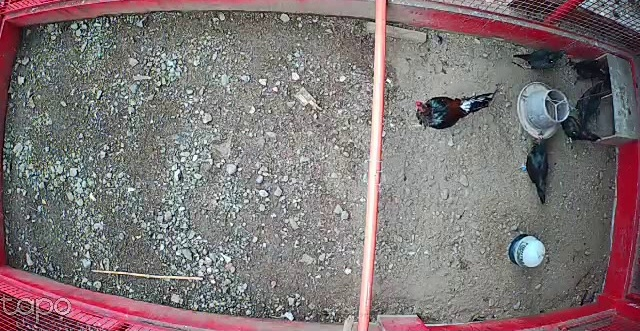Chicken: (520, 133, 549, 206), (568, 80, 608, 123), (558, 114, 603, 150), (511, 45, 573, 70), (565, 54, 614, 80)
Drinker: (509, 233, 547, 270)
Feeder: (517, 83, 569, 140)
Rooster: (415, 87, 497, 132)
